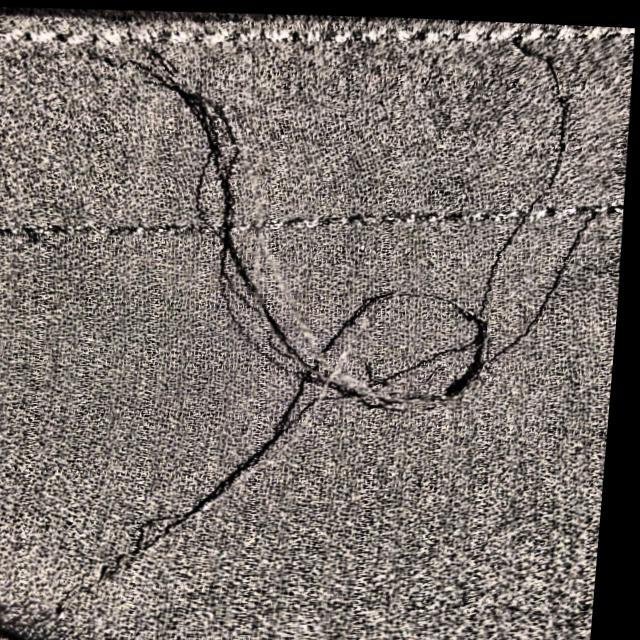Stitch: (94, 39, 606, 623)
